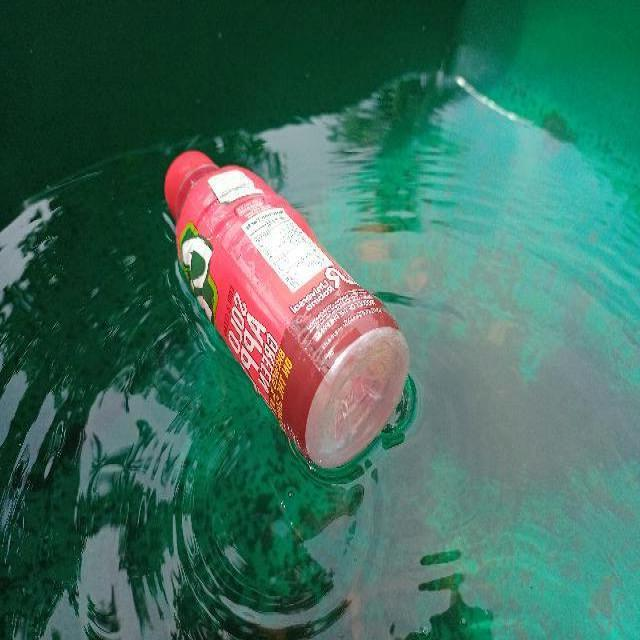Plastic: (152, 144, 411, 474)
